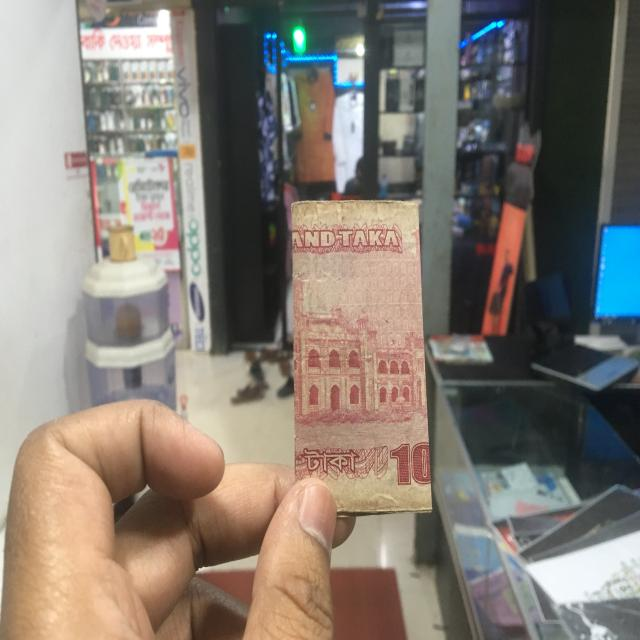Taka: (285, 199, 432, 517)
